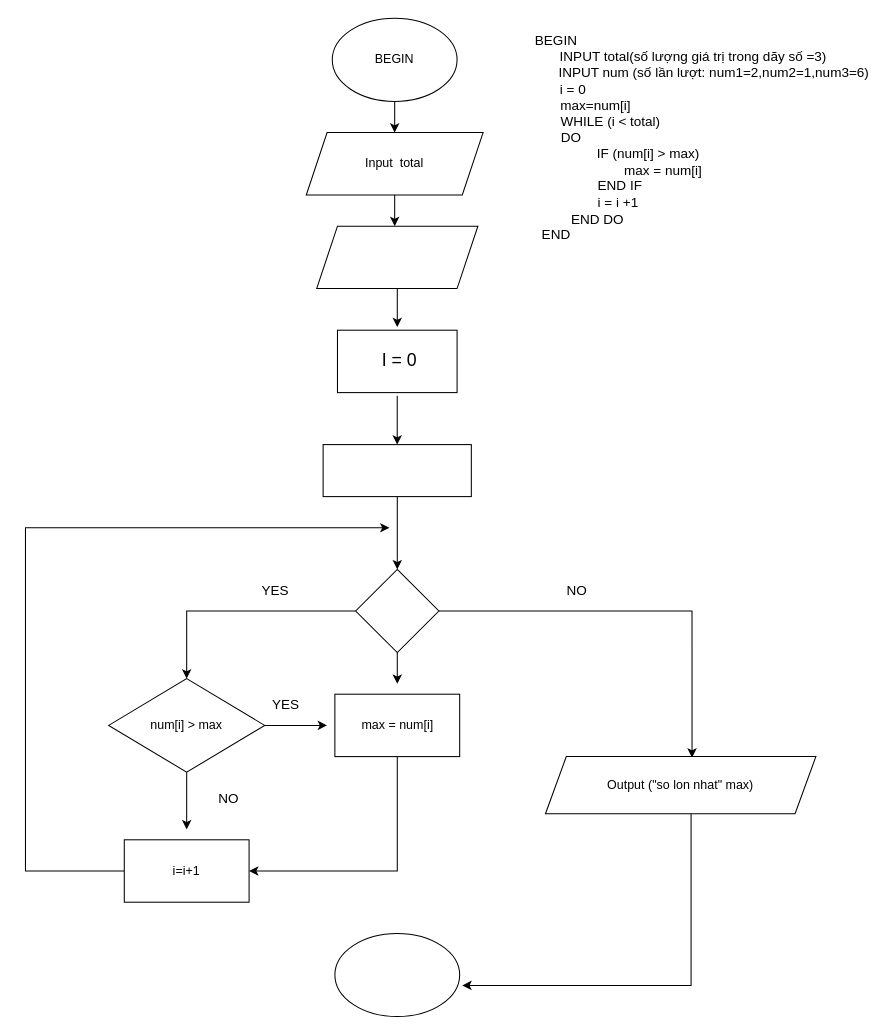
This 896x1035 diagram has some shape labels left out. Here are the shapes that lost their labels. From the top down, the centre of each, then its label:
At (x=397, y=257): "input num".
At (x=396, y=470): "MAX =NUM[I]".
At (x=397, y=610): "I<total".
At (x=397, y=974): "END".
